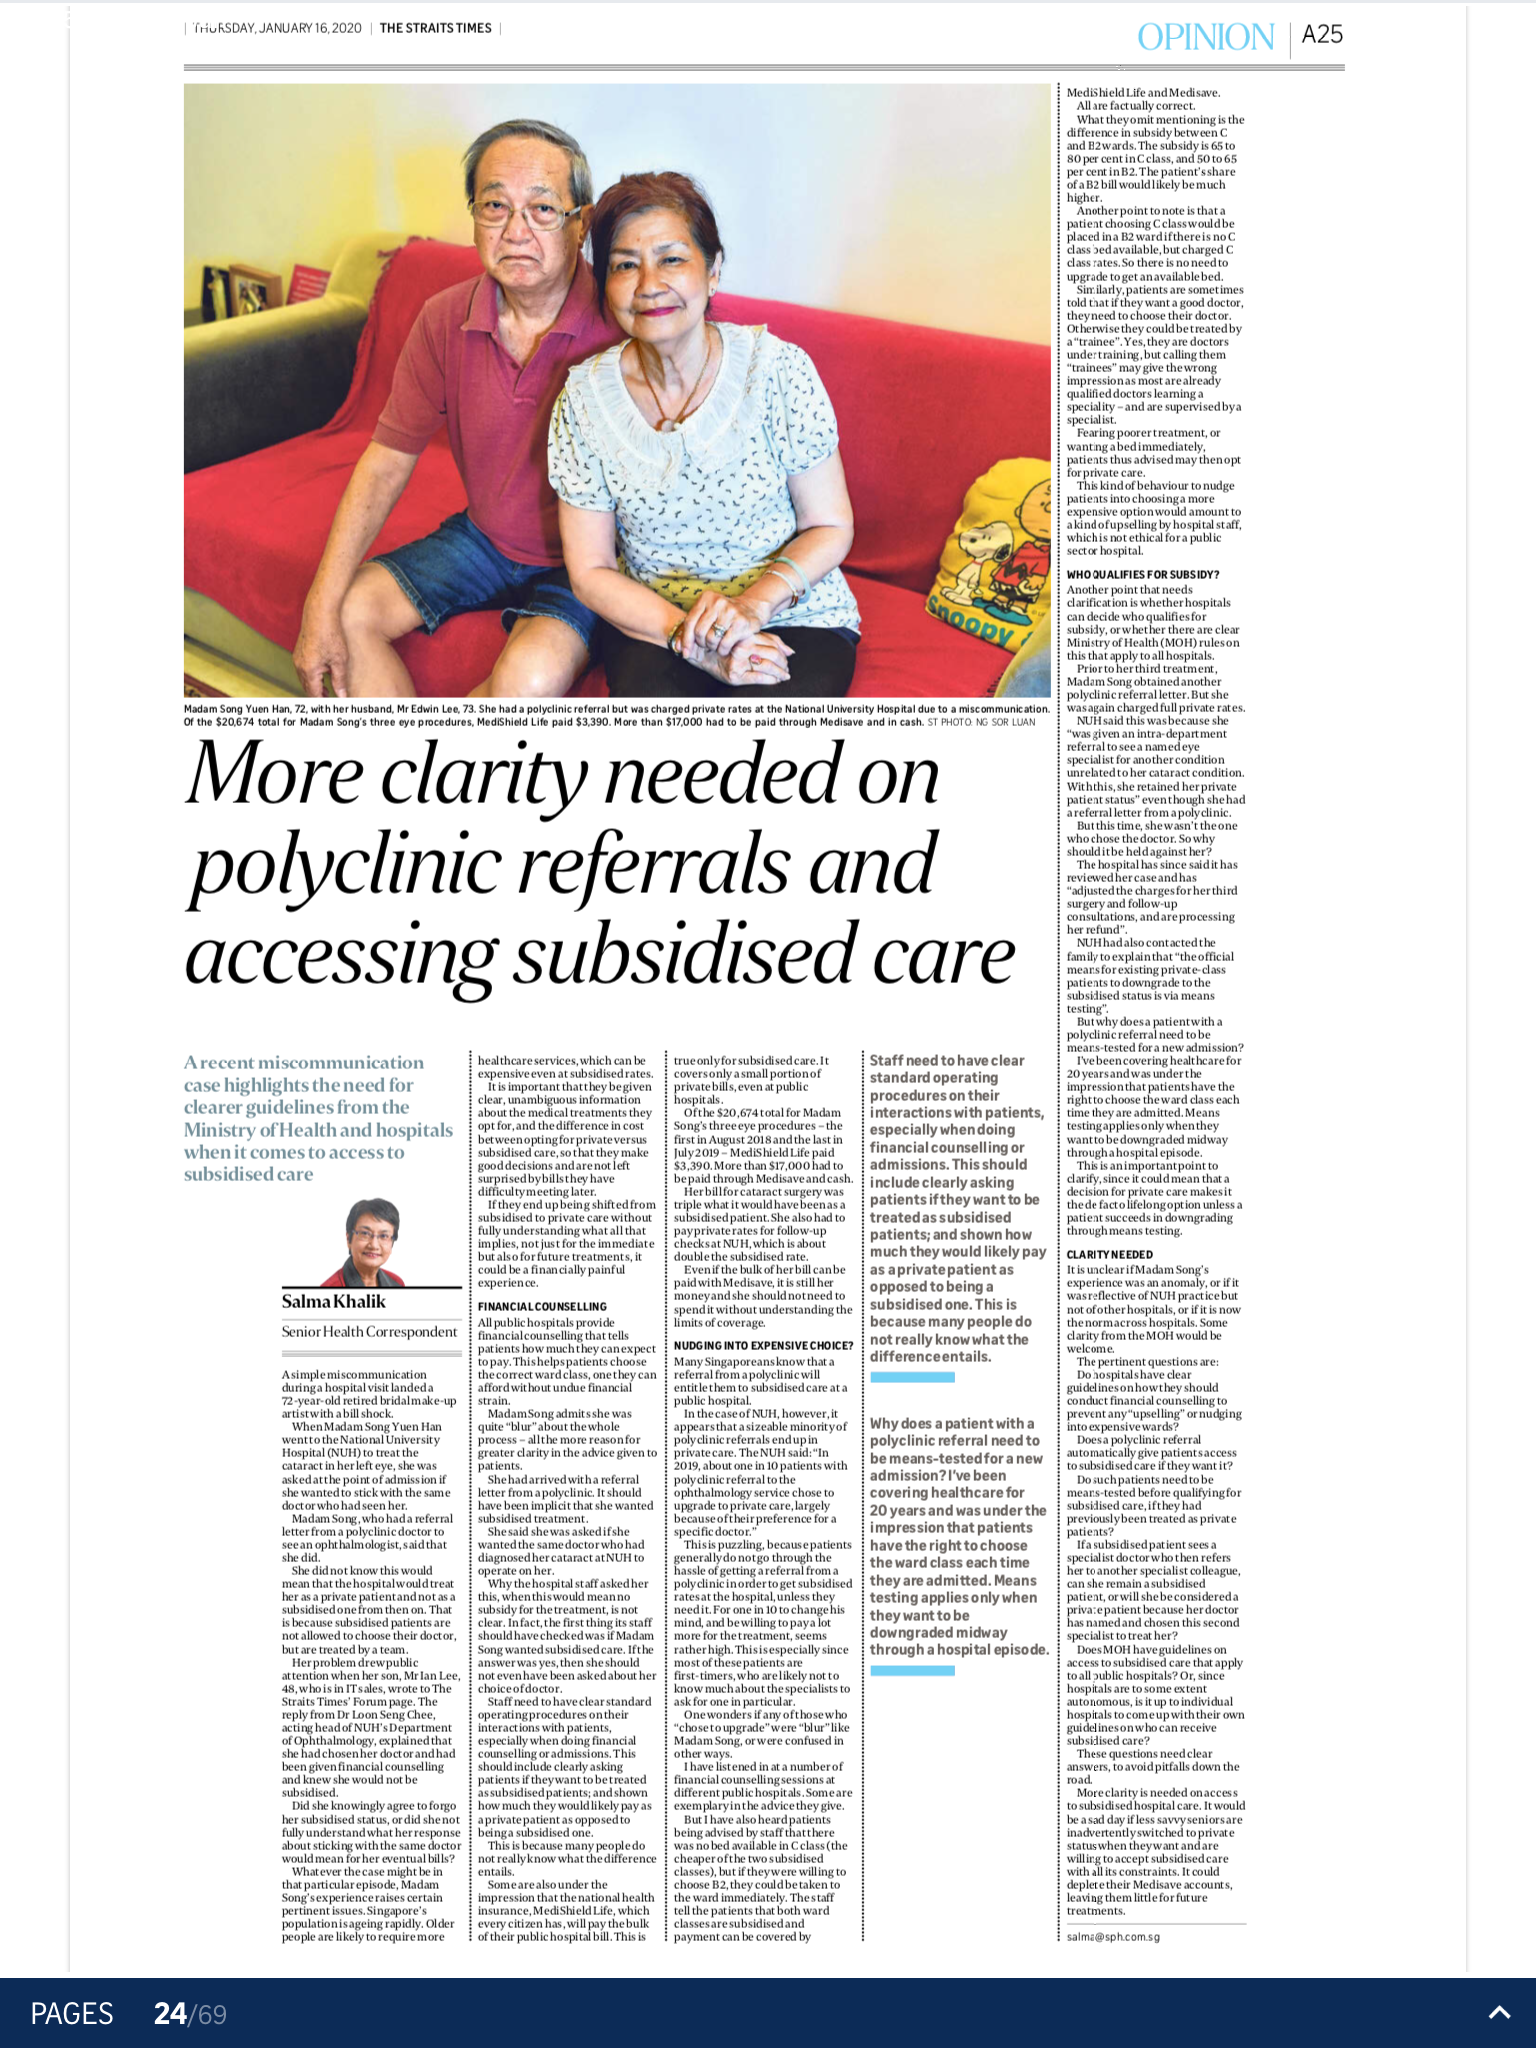Headline: (171, 732, 1025, 1006)
